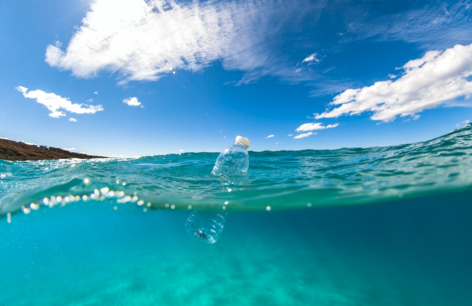litter: (183, 131, 258, 245)
